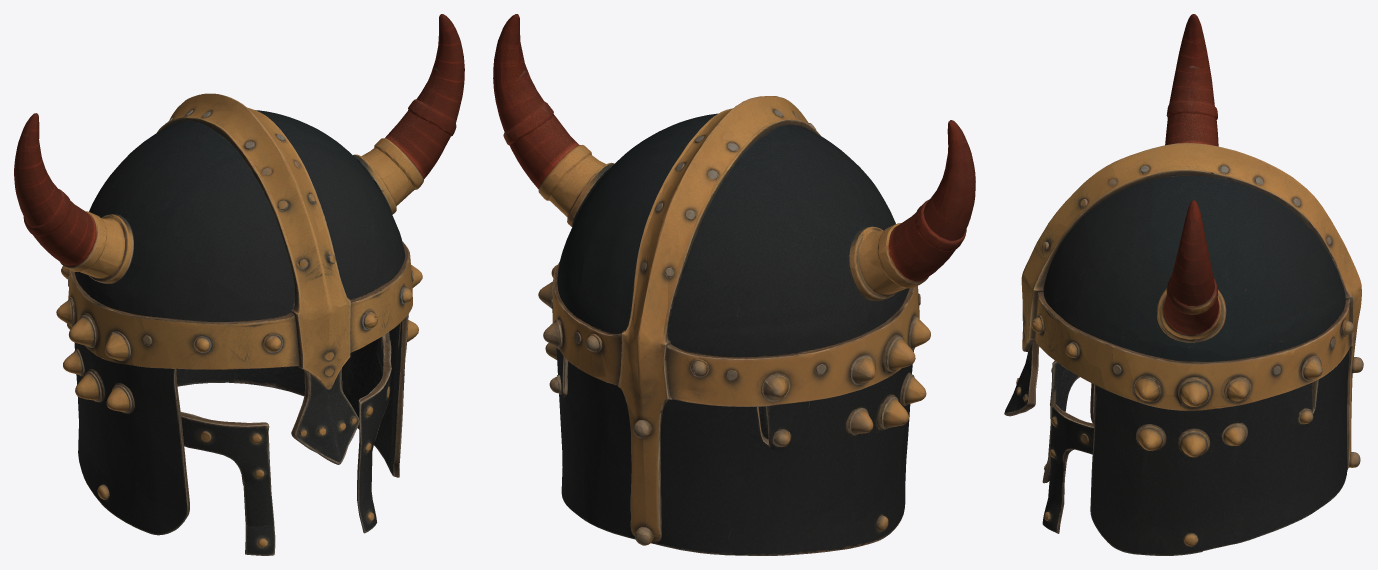
File: Meshy_AI_Viking_Helmet_01a0e83f_texture.glb
3 renders of one model, left to right at view 1: azimuth 30°, elevation 25°; view 2: azimuth 150°, elevation 25°; view 3: azimuth 270°, elevation 25°, orthographic. The views are drawn at different scales.
Bounding box in the file's own units: 1.9 × 1.72 × 1.41.
Materials: 1 (1 with a texture image).
